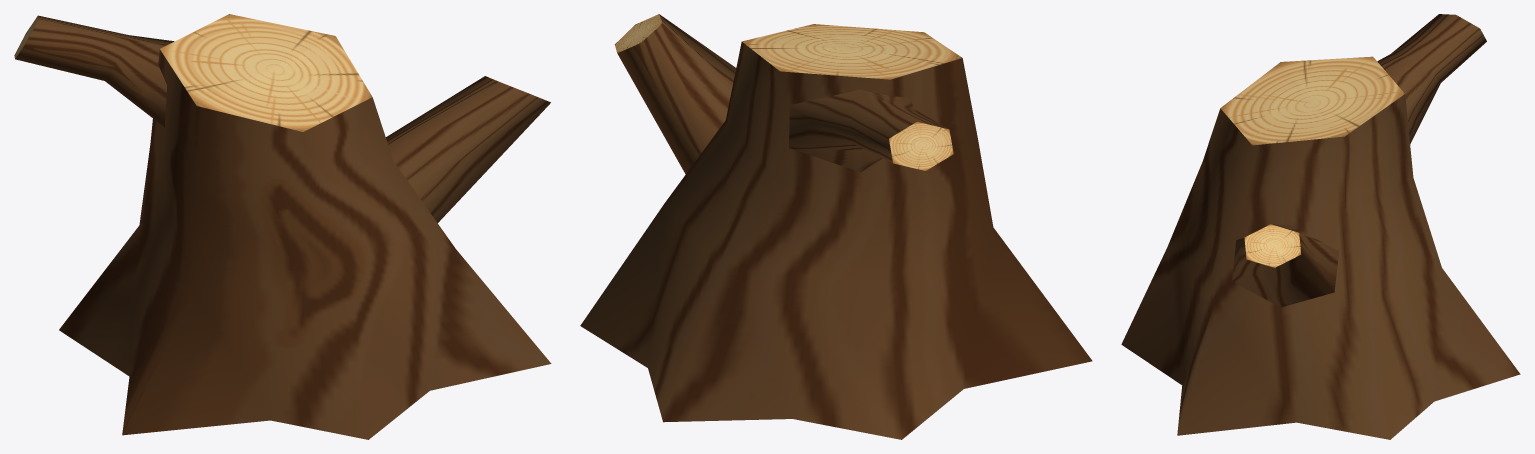
File: Tree_05.FBX
3 renders of one model, left to right at view 1: azimuth 30°, elevation 25°; view 2: azimuth 150°, elevation 25°; view 3: azimuth 270°, elevation 25°, orthographic. The views are drawn at different scales.
Parts seen in each view (by area): view 1: Trunc003; view 2: Trunc003; view 3: Trunc003.
Part boxes in pixels (x1,y1,x2,y2): Trunc003: (14, 14, 551, 439); Trunc003: (580, 14, 1092, 439); Trunc003: (1121, 14, 1520, 439).
Size of the model in its own units: 100 by 68.35 by 91.07.
Materials: 2 (2 with a texture image).
